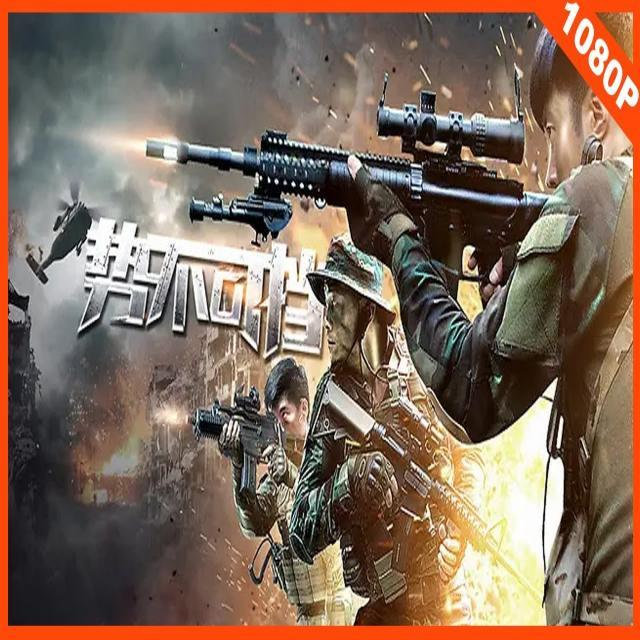rifle: (106, 62, 582, 288), (321, 364, 553, 618), (188, 370, 300, 522)
